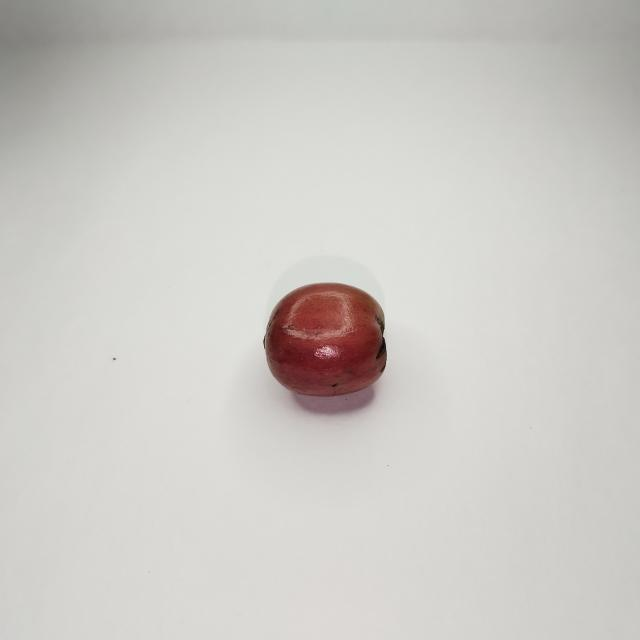Sano: (263, 282, 385, 408)
